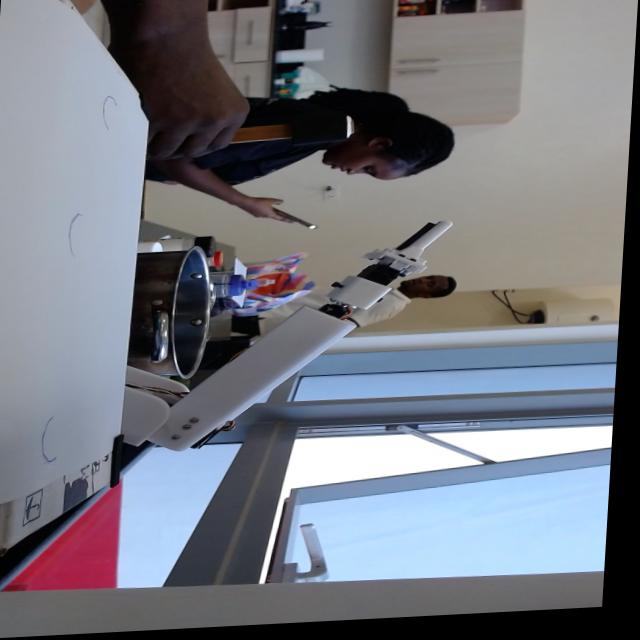cooking_pot: (112, 244, 224, 389)
spatula: (234, 121, 349, 148)
